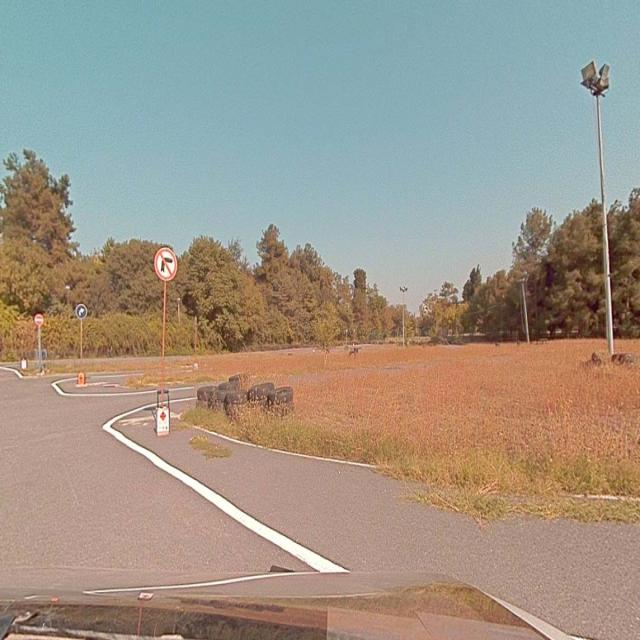girisyok: (34, 314, 44, 326)
sag: (76, 303, 87, 319)
sagadonulmez: (154, 248, 178, 281)
